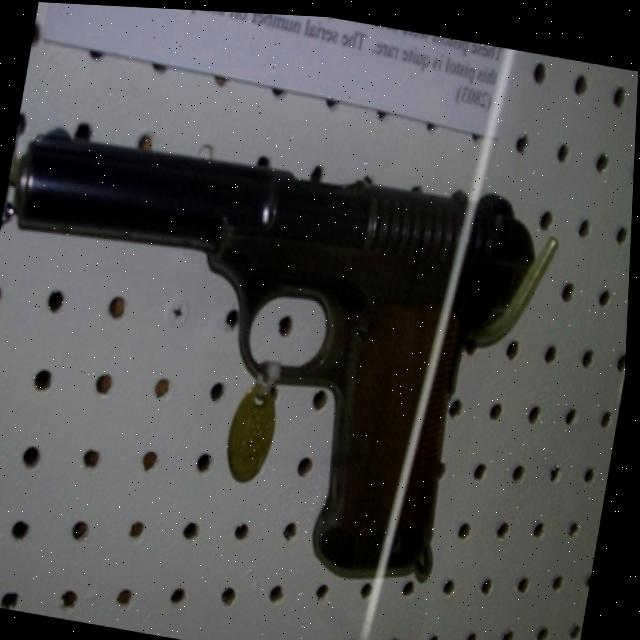pistol: (0, 119, 547, 597)
